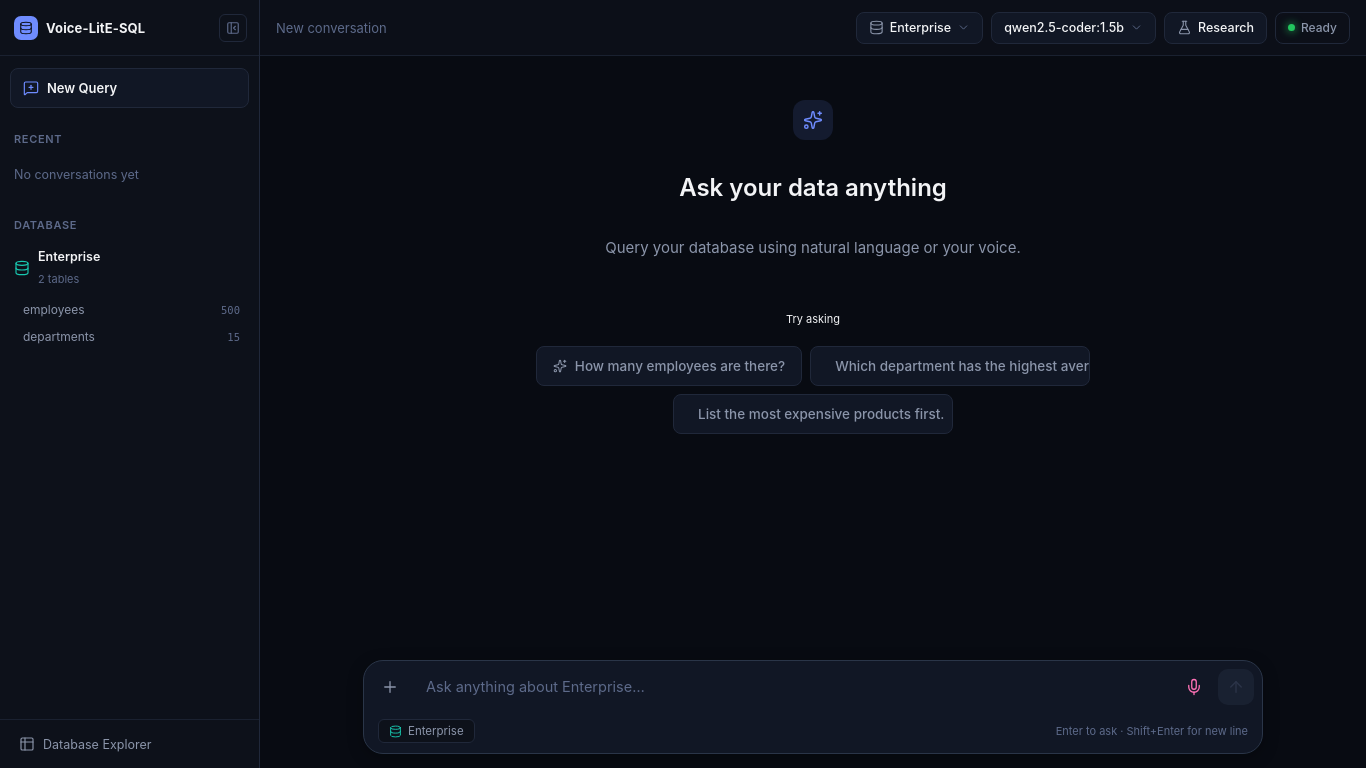
Test case: answer types › TOP_RECORD renders a single canonical answer
The image size is (1366, 768).
Step 1. Type "Which employee has the highest salary?" into the text box with placeholder "Ask anything about Enterprise…" → coordinates (792, 687), box [414, 669, 1170, 705]
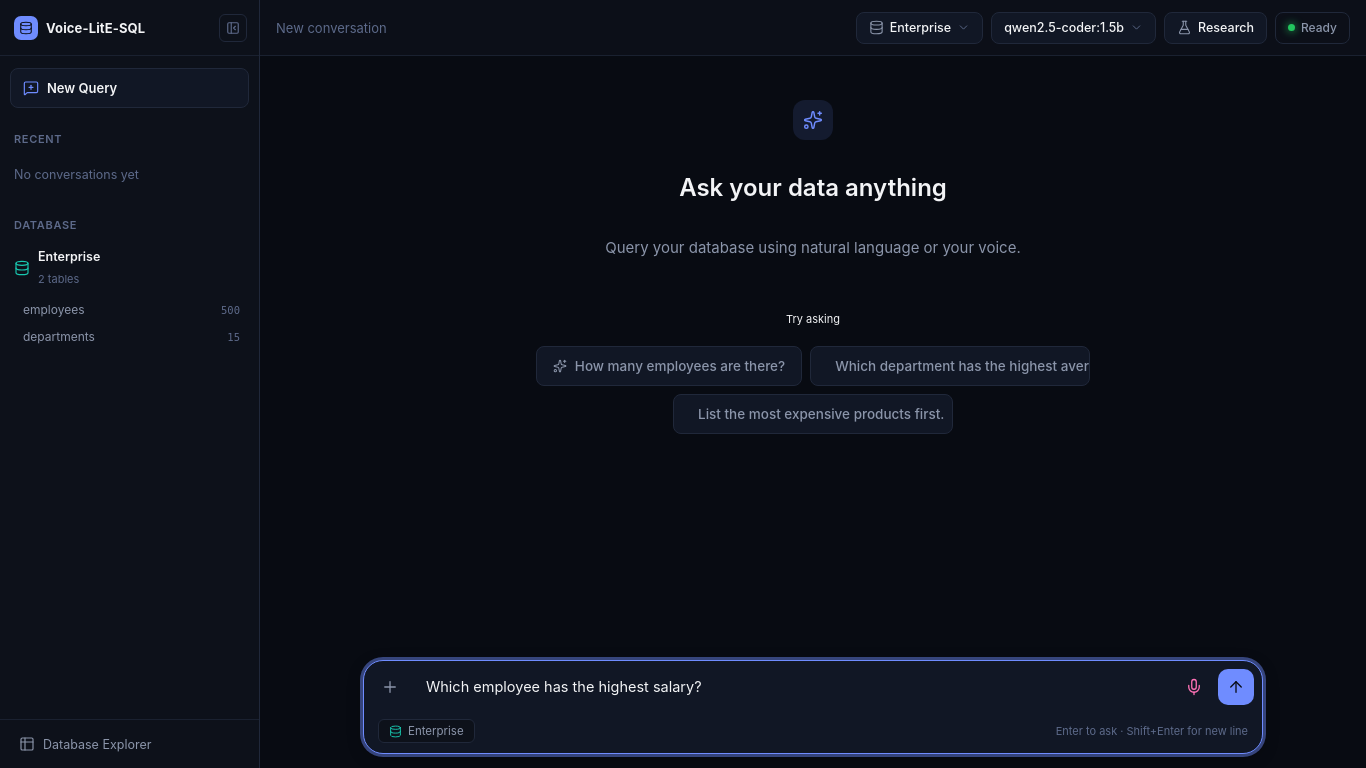
Step 2. Click the button named "Send" → coordinates (1236, 687), box [1218, 669, 1254, 705]
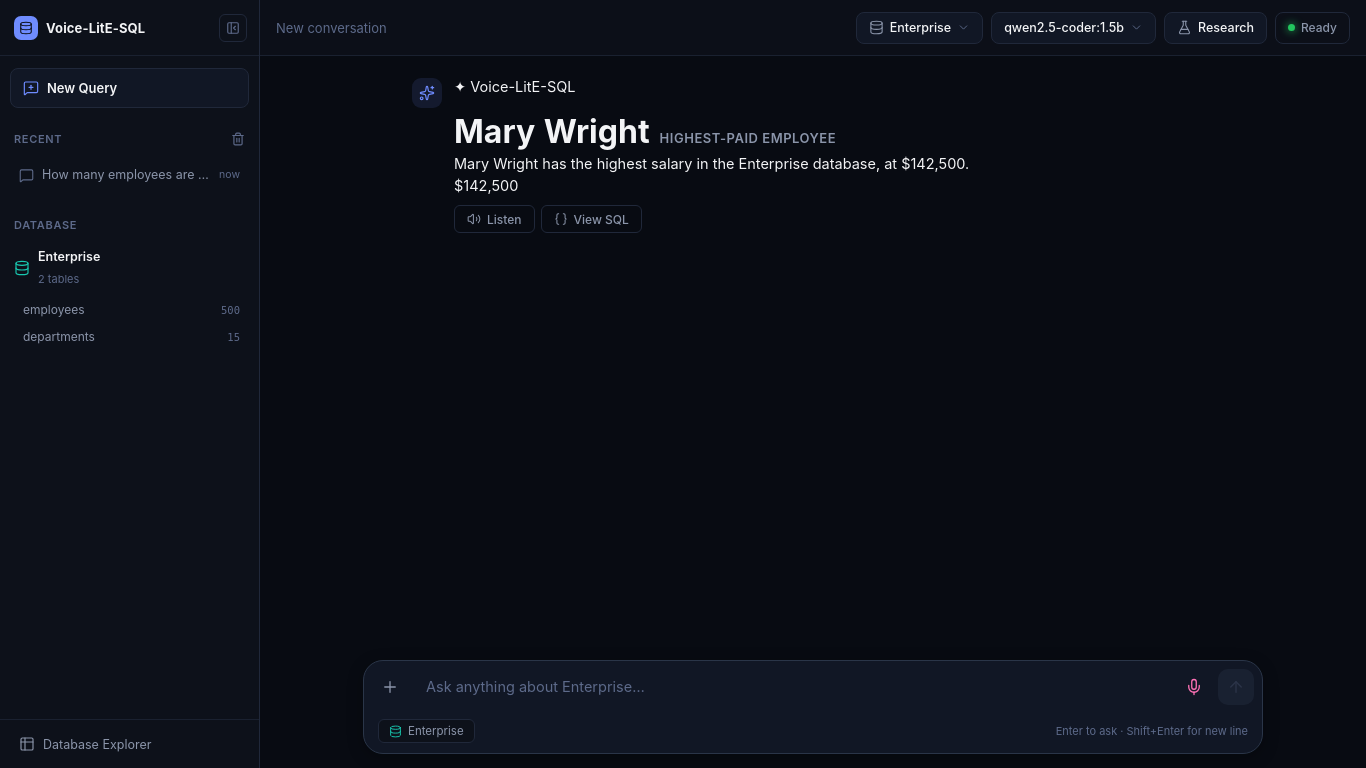
Expected: the text "Mary Wright" is shown, [454, 114, 650, 149]
Expected: the text "$142,500" is shown, [454, 177, 518, 194]
Expected: the text "Highest-paid employee" is shown, [660, 127, 836, 149]
